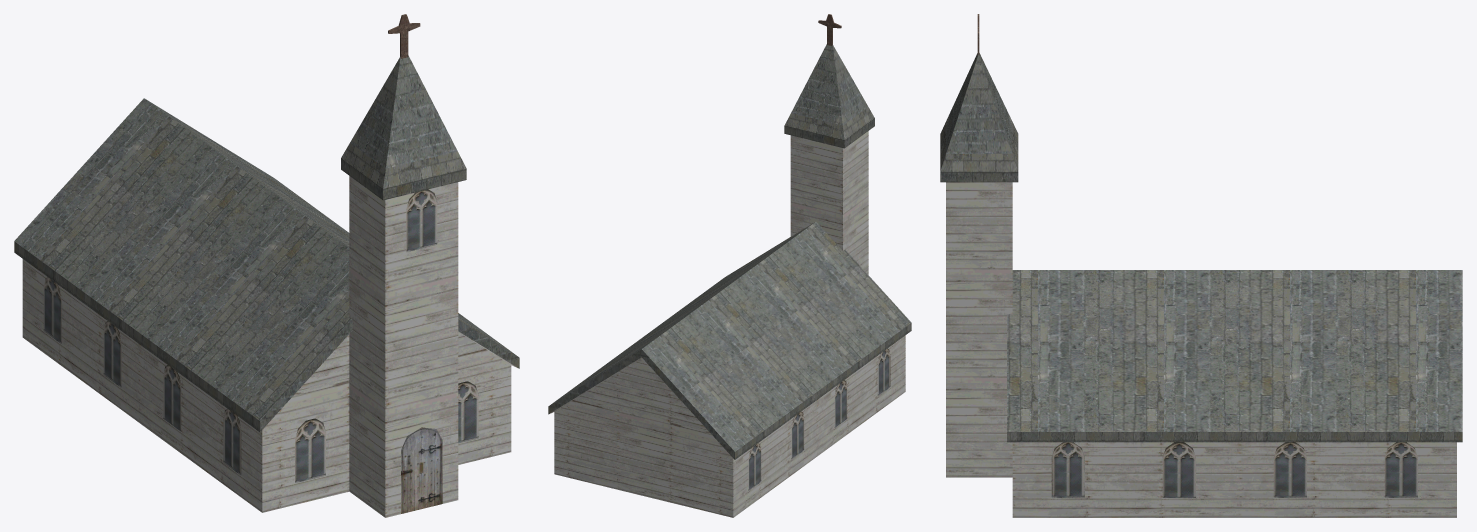
3 views of the same model, side by side, from view 1: azimuth 30°, elevation 25°; view 2: azimuth 150°, elevation 25°; view 3: azimuth 270°, elevation 25° (orthographic). The views are drawn at different scales.
Parts seen in each view (by area): view 1: PSX Abandoned Church; view 2: PSX Abandoned Church; view 3: PSX Abandoned Church.
Part boxes in pixels (x1,y1,x2,y2): PSX Abandoned Church: (14,14,519,517); PSX Abandoned Church: (548,14,911,517); PSX Abandoned Church: (940,14,1462,517).
Bounding box in the file's own units: 6.26 × 11.08 × 11.76.
Materials: 5 (5 with a texture image).
